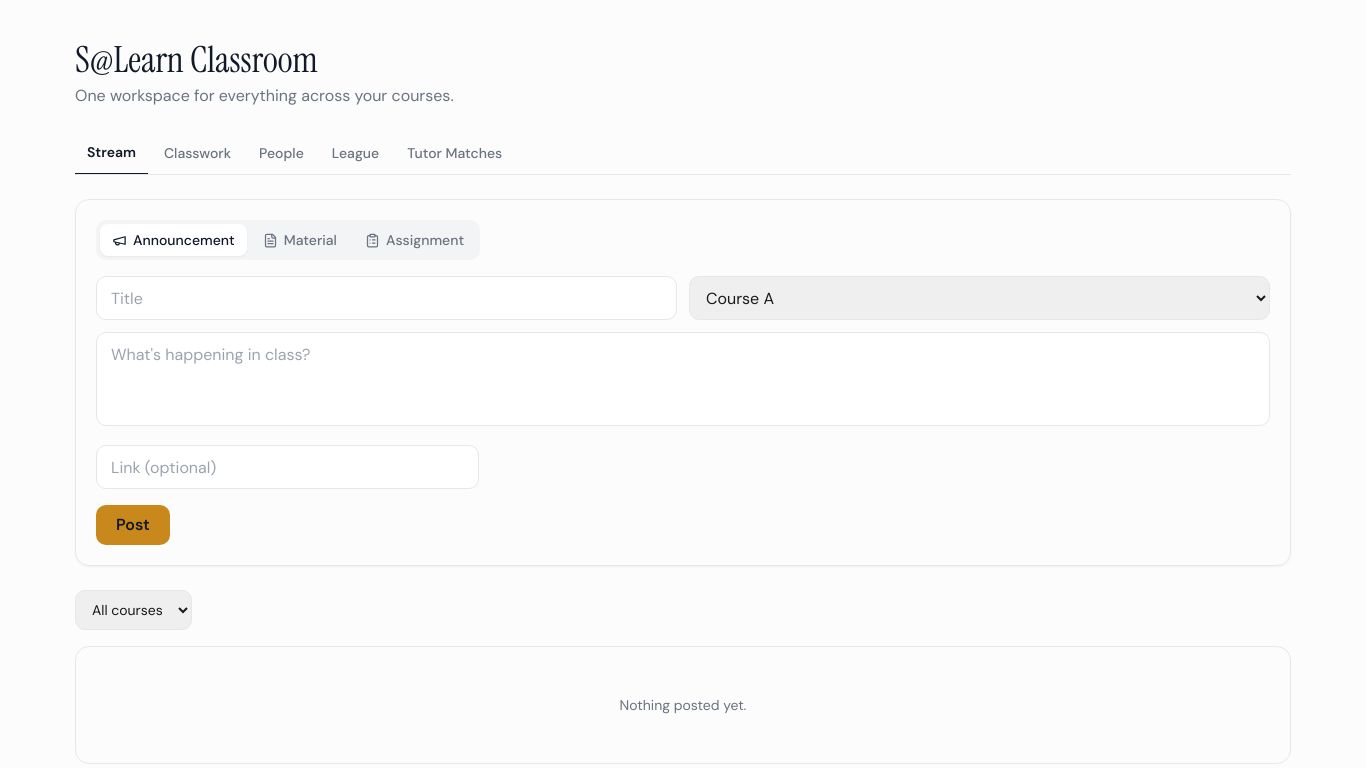
SLearnClassroom › People section › renders aggregated stat tiles across all courses
The width and height of the screenshot is (1366, 768).
Expected: the heading "S@Learn Classroom" is shown, x1=75 y1=36 x2=318 y2=83
Click the button "People" at (281, 153), box x1=247 y1=132 x2=316 y2=174
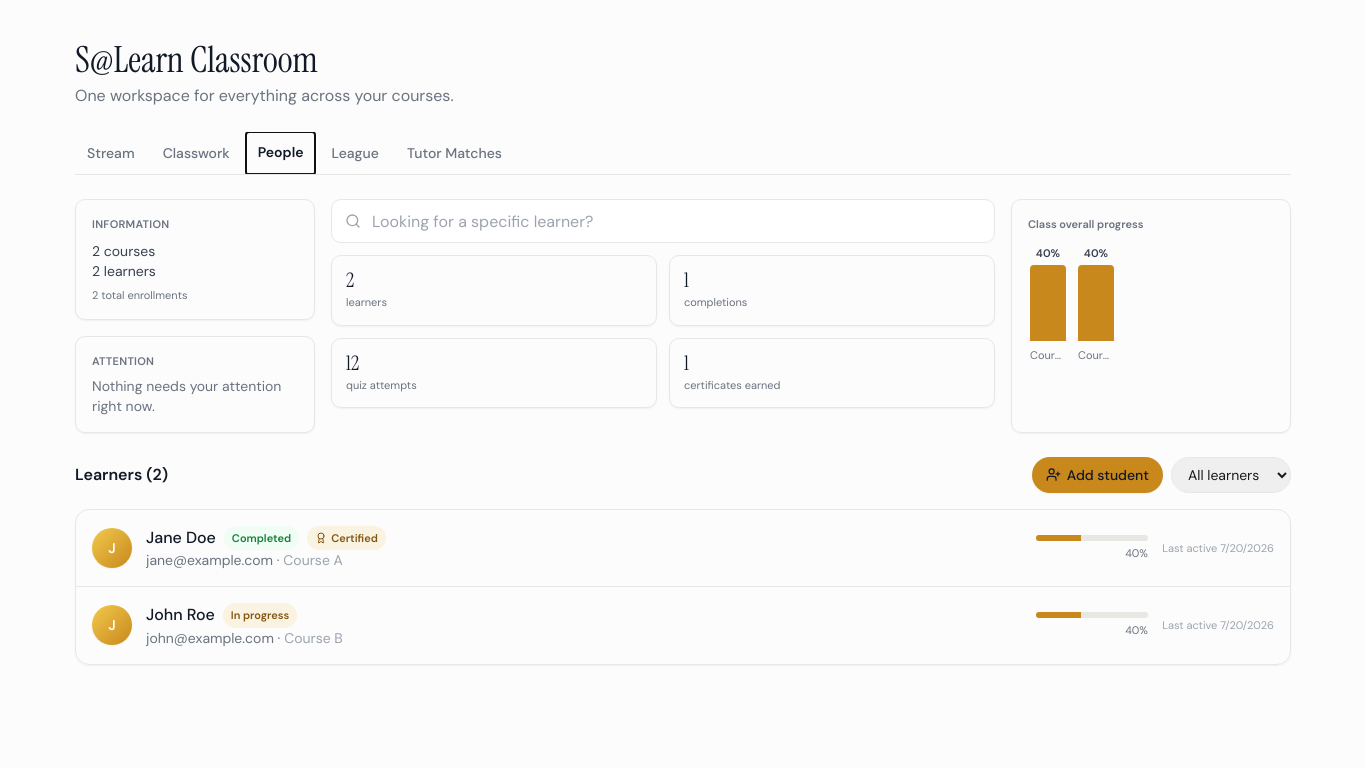
Result: the text "Jane Doe" is shown at x1=146 y1=526 x2=216 y2=550
Result: the text "2" is shown at x1=346 y1=267 x2=354 y2=293
Result: the text "learners" is shown at x1=346 y1=295 x2=387 y2=309
